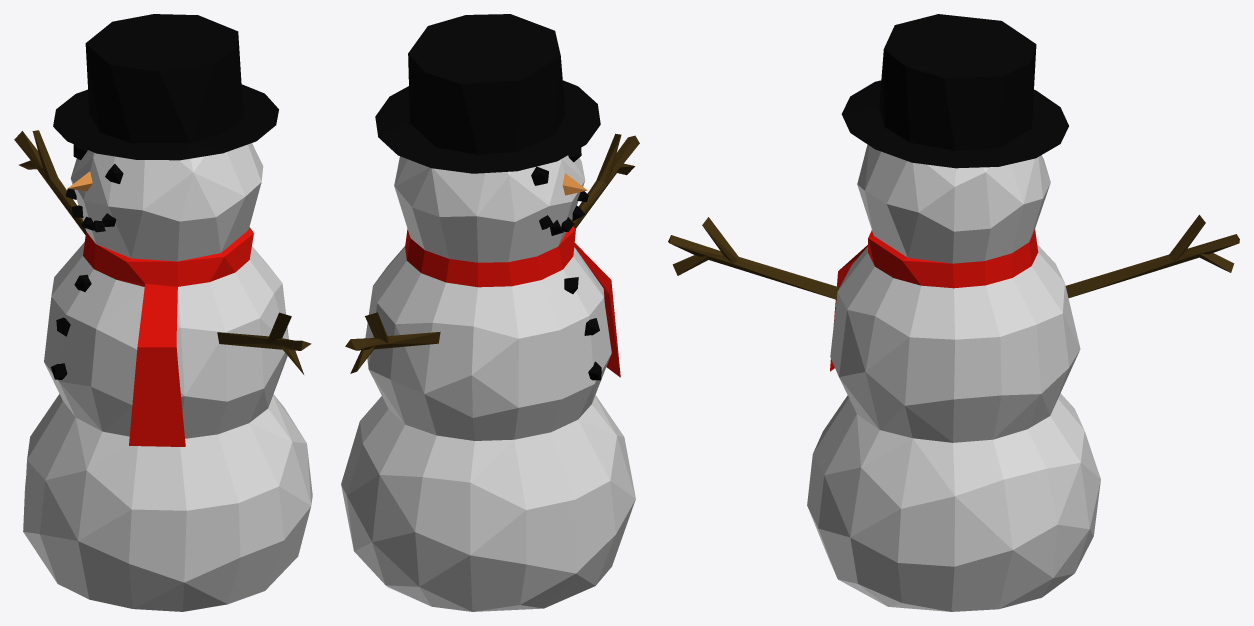
Rendered from snowman.fbx.
3 views of the same model, side by side, from view 1: azimuth 30°, elevation 25°; view 2: azimuth 150°, elevation 25°; view 3: azimuth 270°, elevation 25° (orthographic).
Visible parts, largest first — view 1: snowman; view 2: snowman; view 3: snowman.
Boxes of the visible parts, left/top/right/bottom form: snowman: left=14, top=14, right=312, bottom=611; snowman: left=341, top=14, right=639, bottom=611; snowman: left=668, top=14, right=1239, bottom=611.
Bounding box in the file's own units: 44.98 × 91.34 × 87.42.
